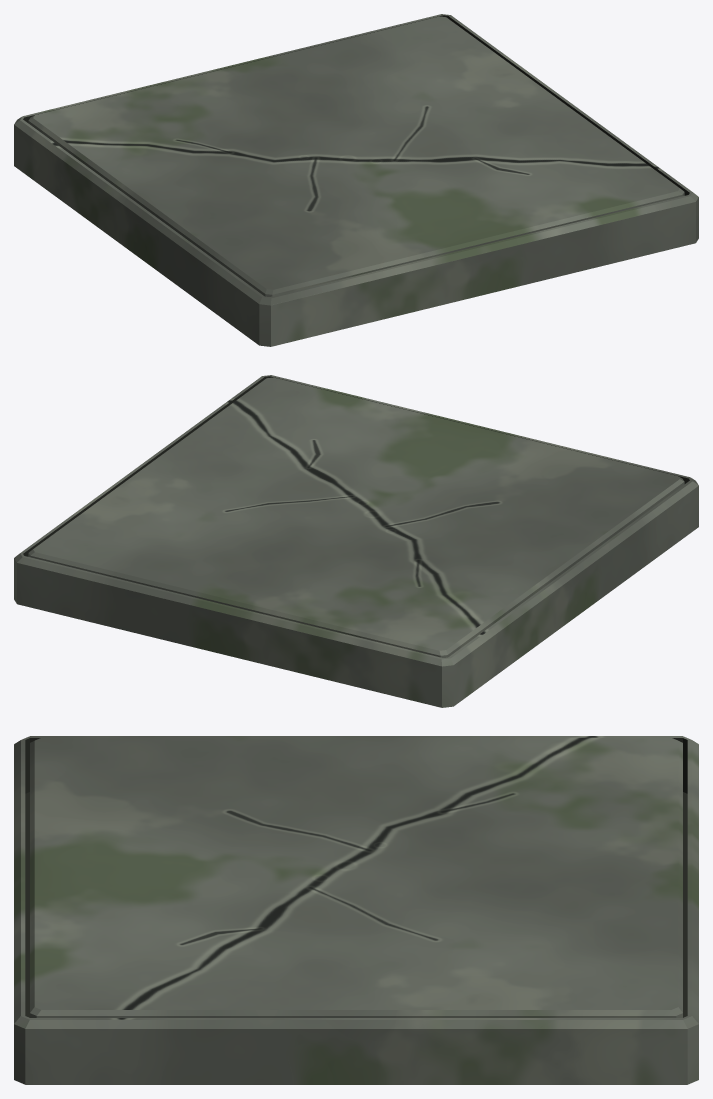
File: Pressure_plate02.fbx
The picture shows the model from 3 angles, top to bottom: view 1: azimuth 30°, elevation 25°; view 2: azimuth 150°, elevation 25°; view 3: azimuth 270°, elevation 25°; orthographic projection. The views are drawn at different scales.
Parts seen in each view (by area): view 1: SM_Pressure_Plate_Move_Y; view 2: SM_Pressure_Plate_Move_Y; view 3: SM_Pressure_Plate_Move_Y.
Part boxes in pixels (box(x1,y1,x2,y2)): SM_Pressure_Plate_Move_Y: box(14, 14, 698, 346); SM_Pressure_Plate_Move_Y: box(14, 375, 698, 707); SM_Pressure_Plate_Move_Y: box(14, 736, 698, 1084).
Size of the model in its own units: 160 by 17.03 by 160.
Materials: 2 (1 with a texture image).
